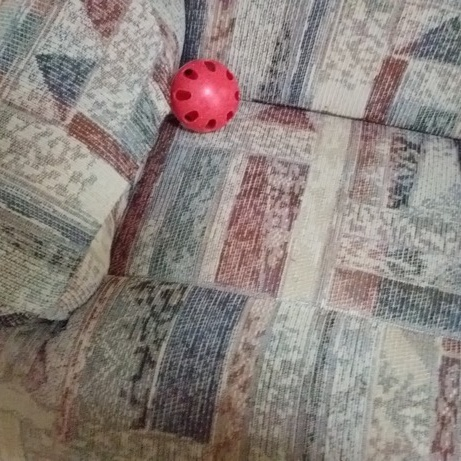redball: (162, 56, 244, 134)
